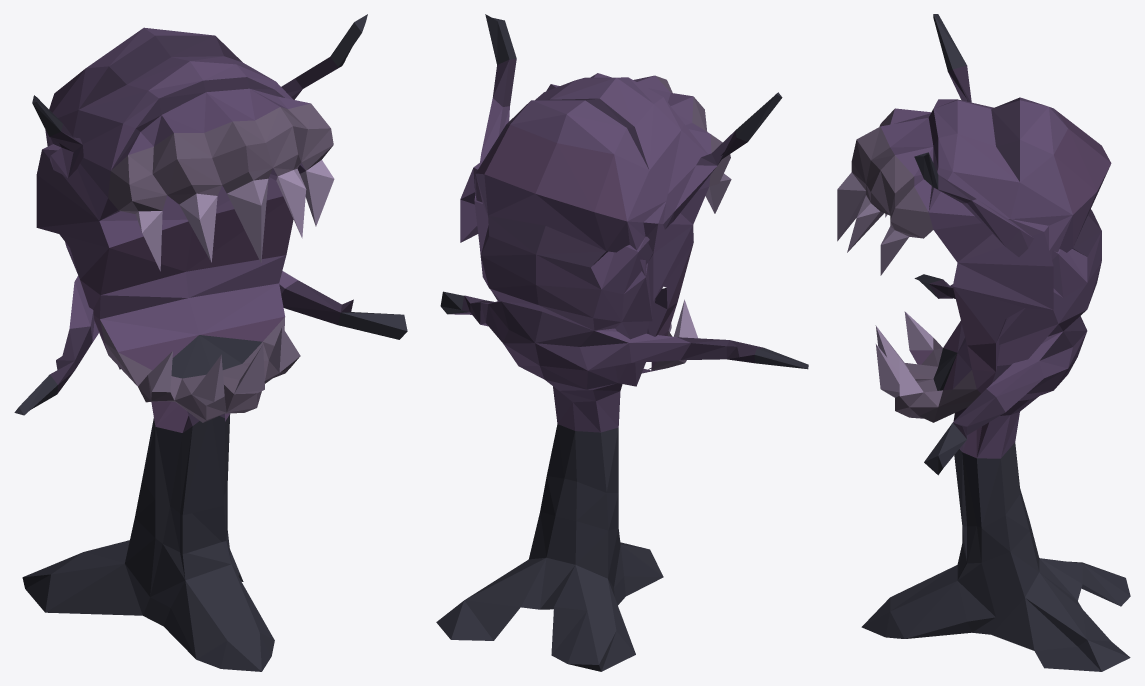
Rendered from dark_core.glb.
The picture shows the model from 3 angles, left to right: view 1: azimuth 30°, elevation 25°; view 2: azimuth 150°, elevation 25°; view 3: azimuth 270°, elevation 25°; orthographic projection. The views are drawn at different scales.
Bounding box in the file's own units: 86 × 124 × 61.
1 material, 1 textured.
